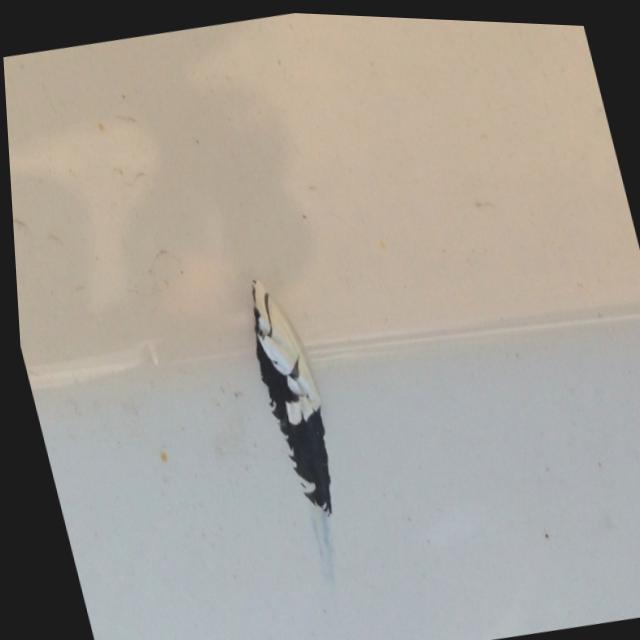Crack: (239, 259, 336, 520)
